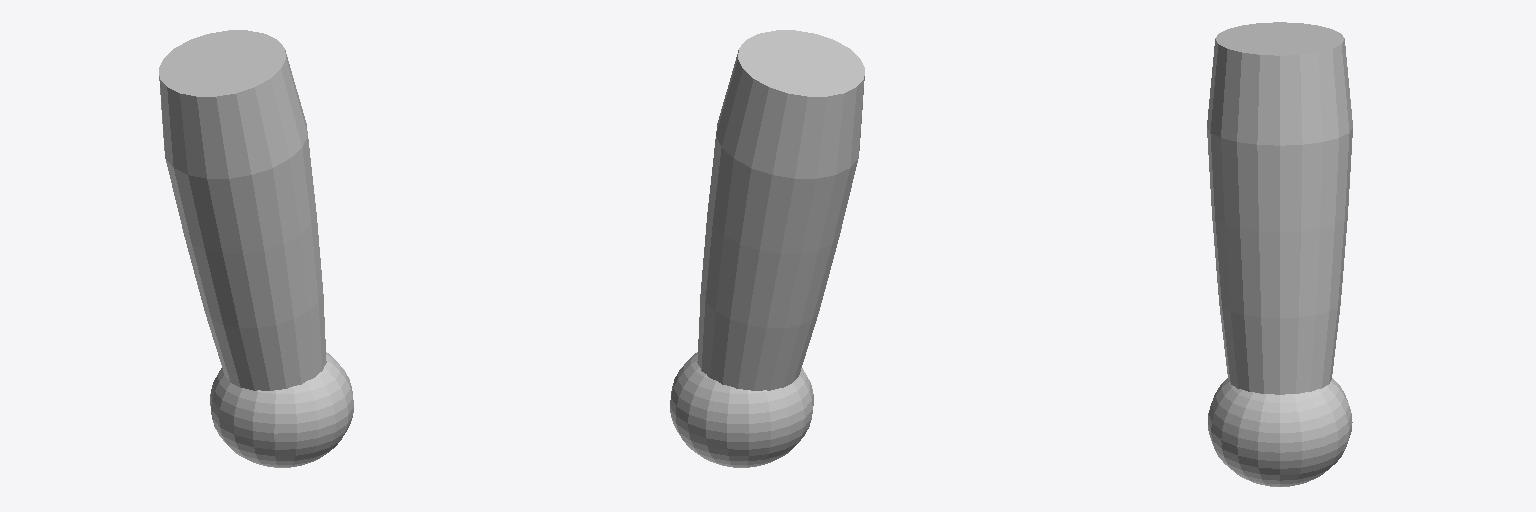
File: footL.obj
3 renders of one model, left to right at view 1: azimuth 30°, elevation 25°; view 2: azimuth 150°, elevation 25°; view 3: azimuth 270°, elevation 25°, orthographic.
Visible parts, largest first — view 1: footL:pSphere14; view 2: footL:pSphere14; view 3: footL:pSphere14.
Boxes of the visible parts, x1=… form: footL:pSphere14: x1=159, y1=30, x2=353, y2=467; footL:pSphere14: x1=670, y1=30, x2=864, y2=467; footL:pSphere14: x1=1207, y1=22, x2=1352, y2=486.
Size of the model in its own units: 2.83 by 6.42 by 2.02.